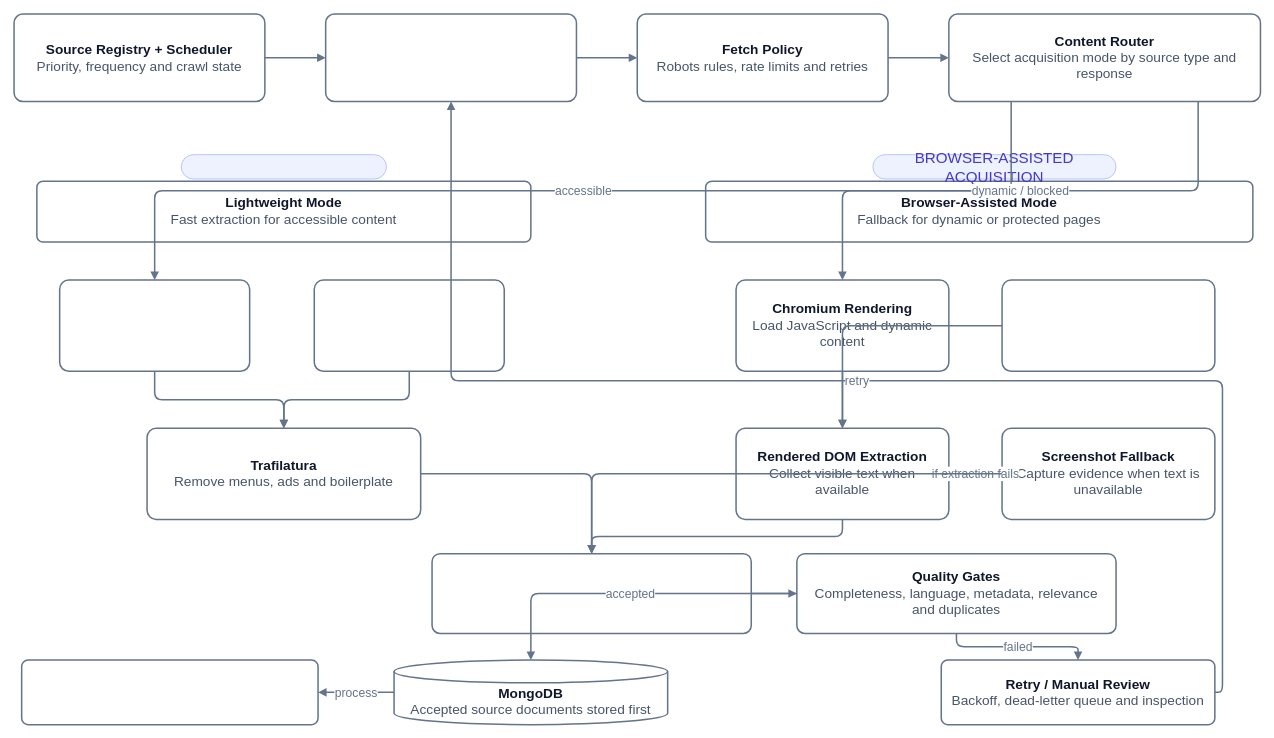
Image size: 1274x738. Some labels were removed from this diagram. The shapes that lost their labels are listed below. From the top down, each one's centre as x and y in pixels, then its label:
At pixel 451 57: "URL Frontier Priority queue of pending URLs".
At pixel 283 166: "LIGHTWEIGHT ACQUISITION".
At pixel 154 325: "RSS + HTML Requests and feed parsing".
At pixel 409 325: "PDF Parser Download and extract text".
At pixel 1108 325: "Human Browser Behavior Wait, scroll, click and navigate".
At pixel 591 593: "Unified Document Clean text, URL, source, date and crawl metadata".
At pixel 169 692: "Knowledge Processing Chunking, embeddings, entities and graph".
